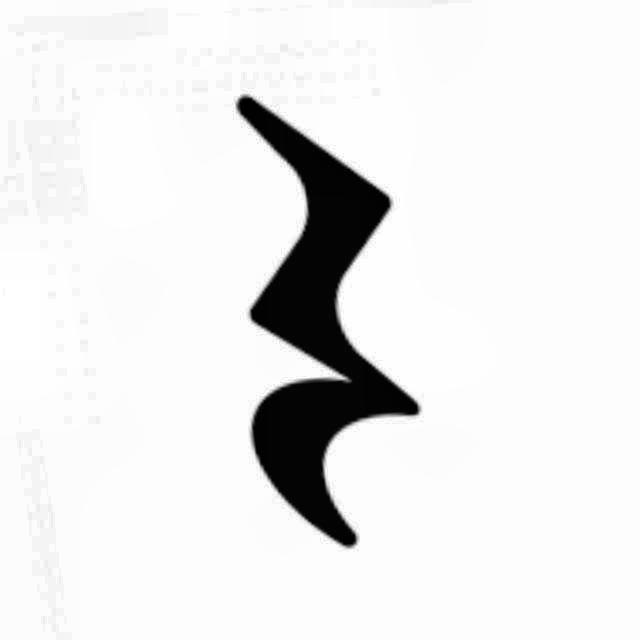Quarter-rest: (174, 64, 482, 562)
